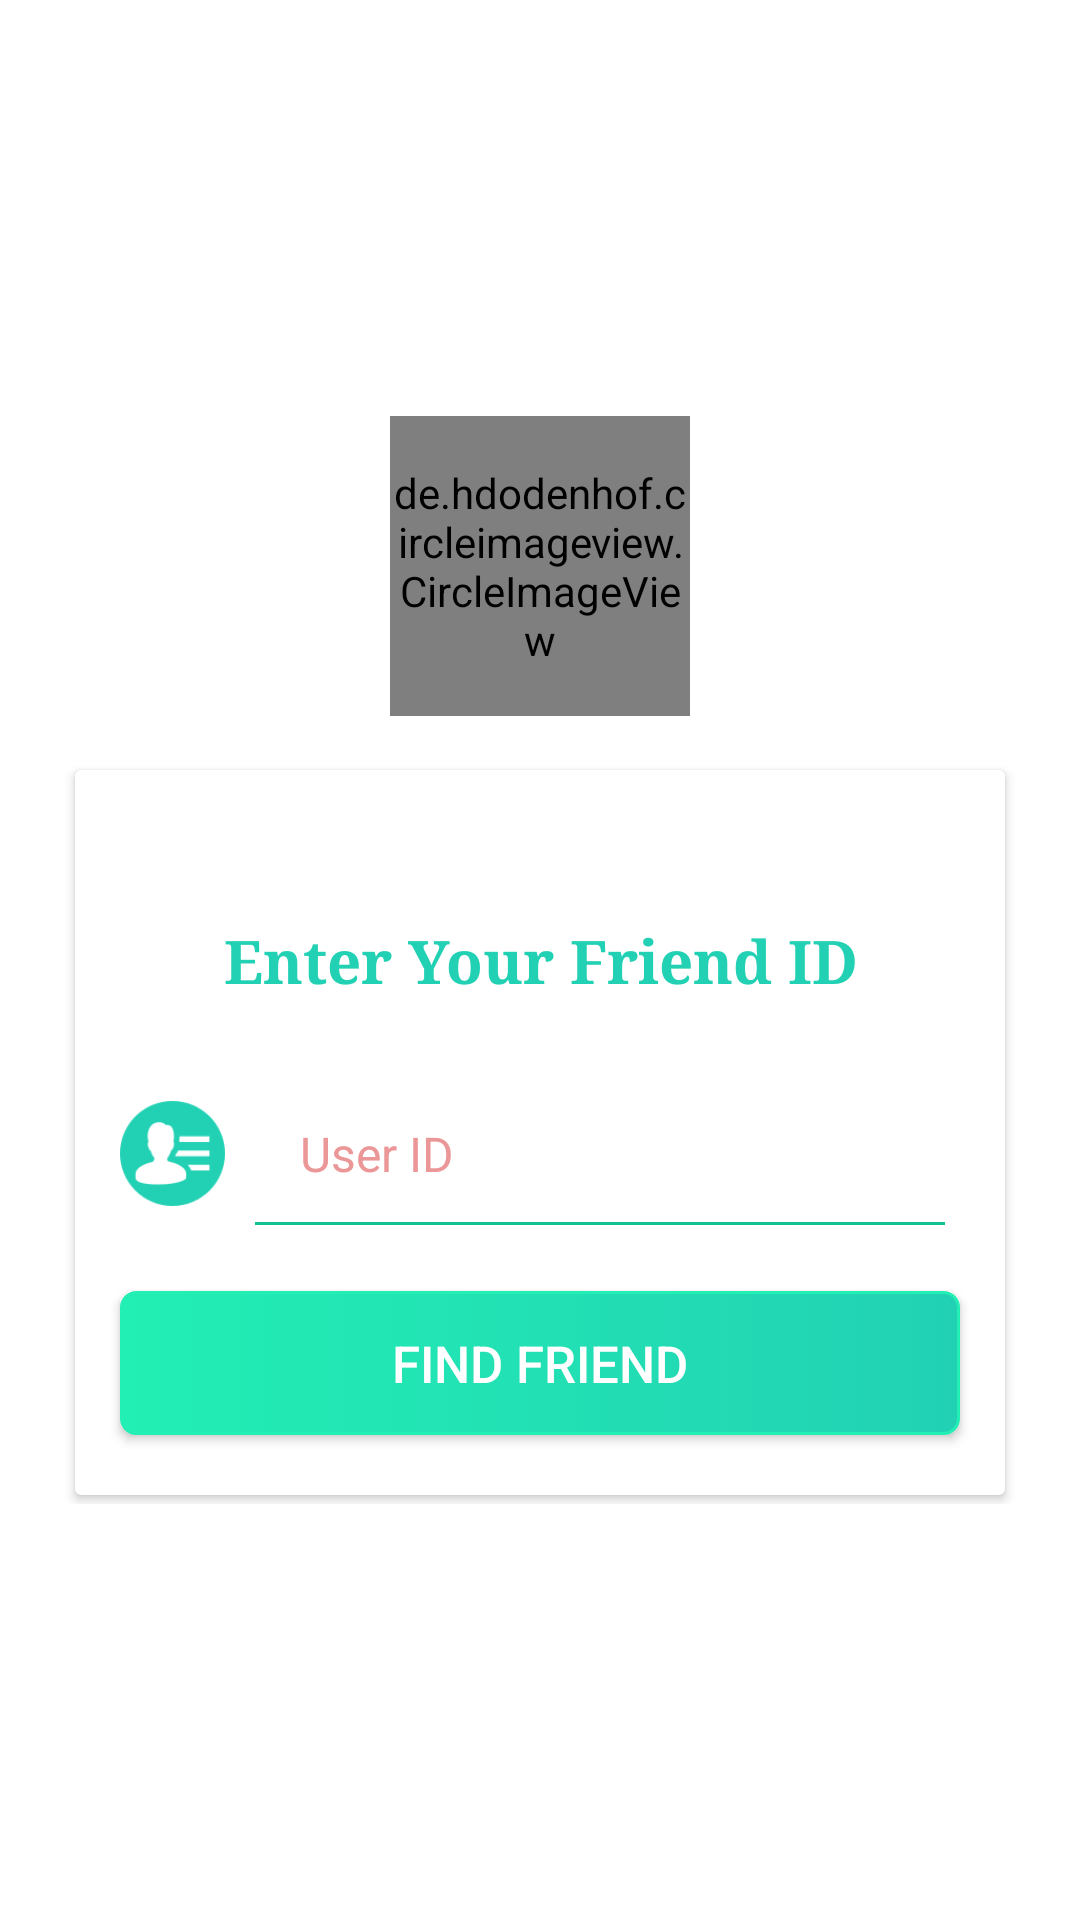

Icon click points for this 1080px x 1920px phone screenshot, format point (x, y):
user name: point (172, 1153)
